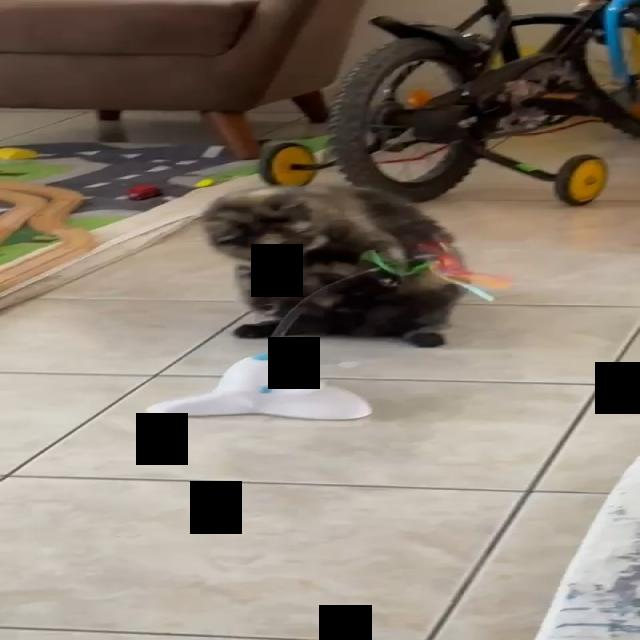authorized: (199, 183, 469, 348)
